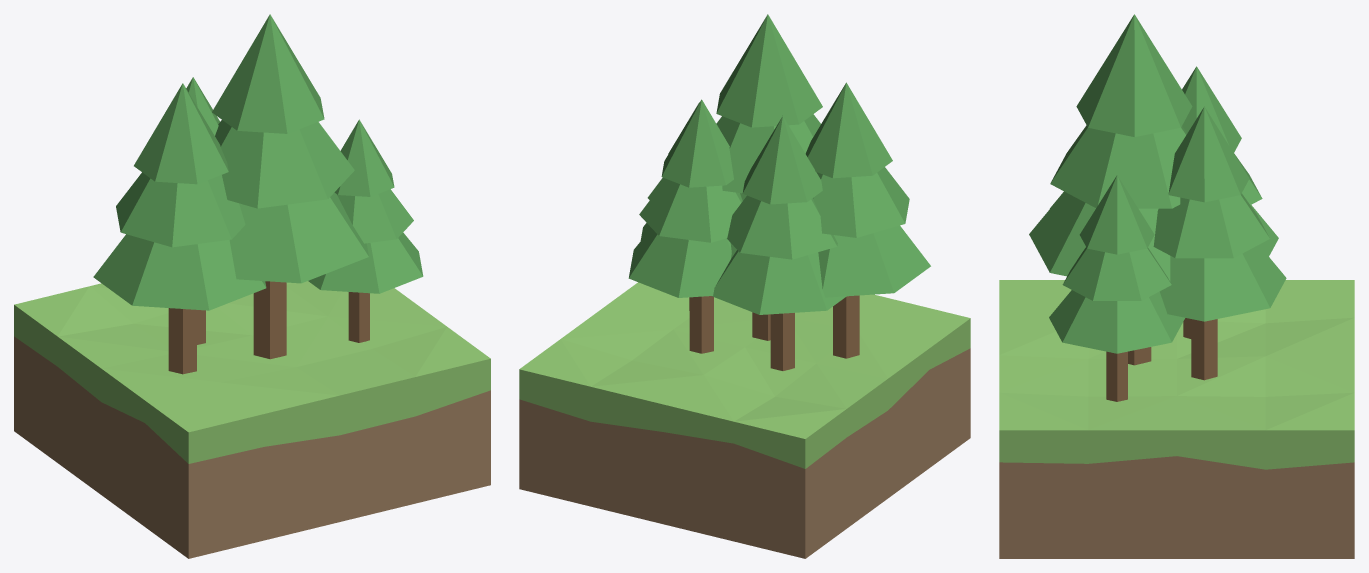
Rendered from GrassTile_Center5.fbx.
3 renders of one model, left to right at view 1: azimuth 30°, elevation 25°; view 2: azimuth 150°, elevation 25°; view 3: azimuth 270°, elevation 25°, orthographic. The views are drawn at different scales.
Parts seen in each view (by area): view 1: GrassTile_Center5; view 2: GrassTile_Center5; view 3: GrassTile_Center5.
Part boxes in pixels (box(x1,y1,x2,y2)): GrassTile_Center5: box(14, 14, 490, 558); GrassTile_Center5: box(519, 14, 970, 558); GrassTile_Center5: box(999, 14, 1354, 558).
Bounding box in the file's own units: 1.02 × 1.45 × 1.
